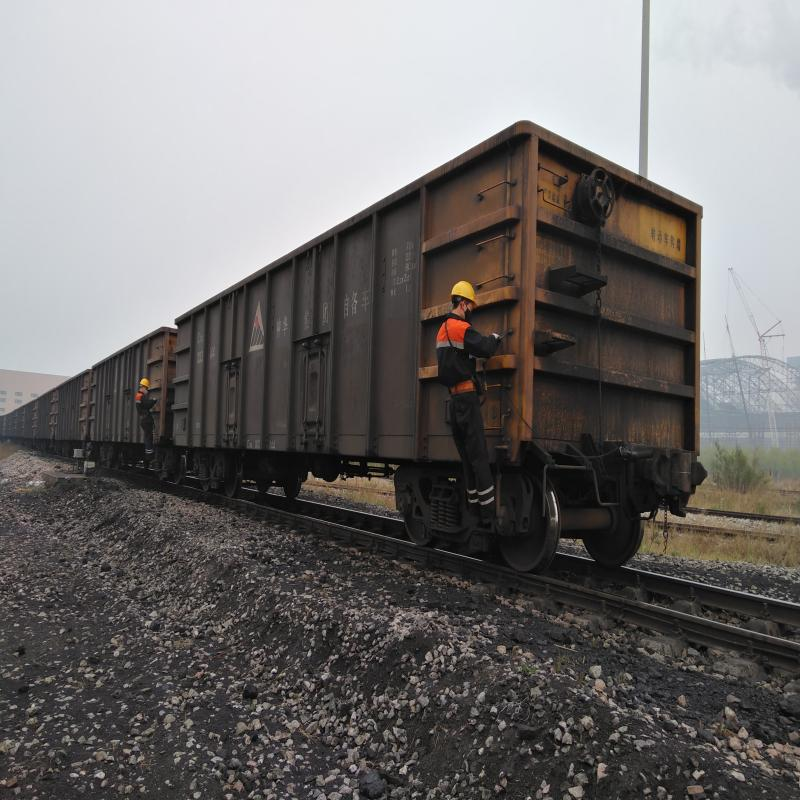train: (174, 316, 331, 494)
